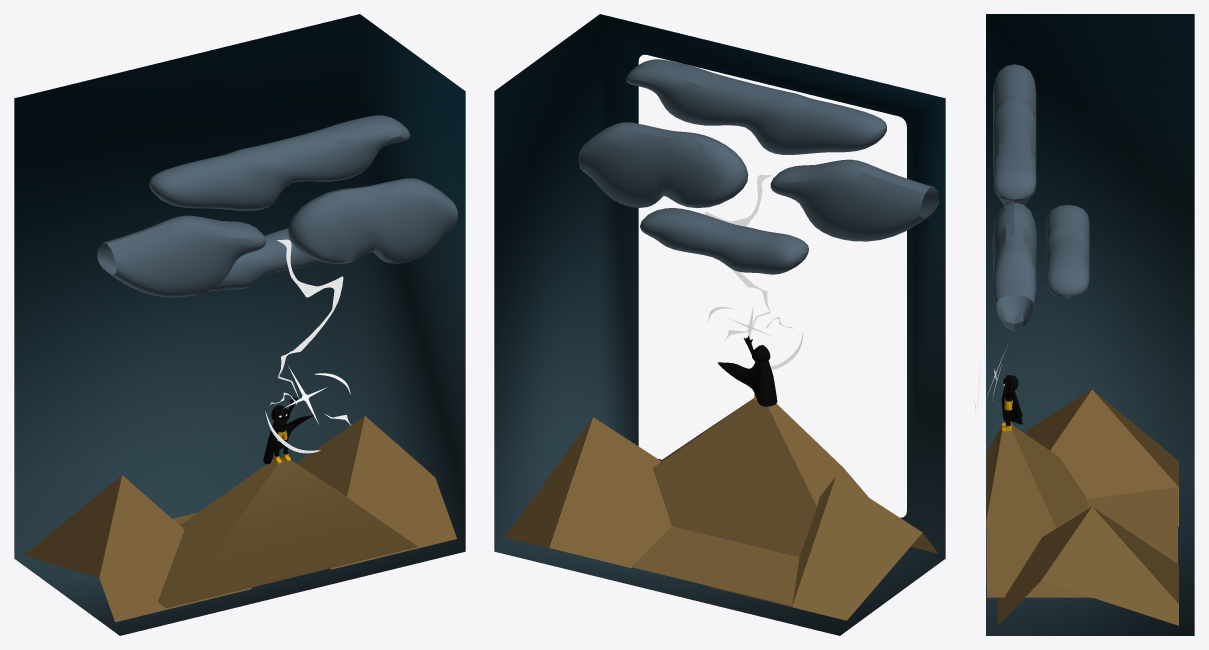
Rendered from 8_LightningWizard.glb.
3 views of the same model, side by side, from view 1: azimuth 30°, elevation 25°; view 2: azimuth 150°, elevation 25°; view 3: azimuth 270°, elevation 25° (orthographic).
Parts seen in each view (by area): view 1: 8_LightningWizard_bg, 8_LightningWizard; view 2: 8_LightningWizard, 8_LightningWizard_bg; view 3: 8_LightningWizard_bg, 8_LightningWizard.
Boxes of the visible parts, box(x1,y1,x2,y2) form: 8_LightningWizard_bg: box(14, 14, 465, 635); 8_LightningWizard: box(24, 115, 457, 622); 8_LightningWizard: box(505, 59, 939, 620); 8_LightningWizard_bg: box(494, 14, 945, 635); 8_LightningWizard_bg: box(986, 14, 1194, 635); 8_LightningWizard: box(974, 64, 1178, 625).
Bounding box in the file's own units: 2.76 × 3.51 × 1.54.
2 materials, 2 textured.
